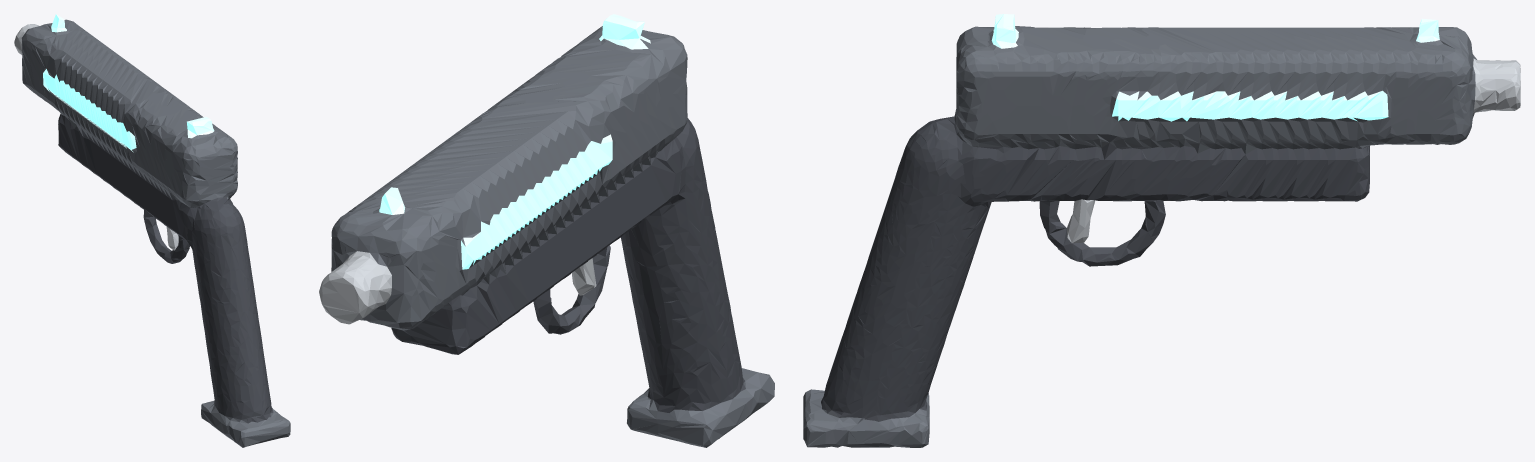
File: pistol-blue.glb
The picture shows the model from 3 angles, left to right: view 1: azimuth 30°, elevation 25°; view 2: azimuth 150°, elevation 25°; view 3: azimuth 270°, elevation 25°; orthographic projection. The views are drawn at different scales.
Visible parts, largest first — view 1: gunmetal, polymer, glow-blue, steel; view 2: gunmetal, polymer, glow-blue, steel; view 3: gunmetal, polymer, glow-blue, steel.
Part boxes in pixels (x1,y1,x2,y2): gunmetal: [21, 19, 290, 447]; polymer: [58, 114, 273, 423]; glow-blue: [43, 14, 214, 152]; steel: [14, 24, 178, 250]; gunmetal: [331, 26, 774, 447]; polymer: [391, 118, 745, 412]; glow-blue: [379, 14, 650, 269]; steel: [319, 251, 596, 324]; gunmetal: [803, 26, 1476, 447]; polymer: [821, 116, 1369, 423]; glow-blue: [991, 14, 1439, 121]; steel: [1067, 58, 1520, 243].
Size of the model in its own units: 0.0437 by 0.1927 by 0.295.
